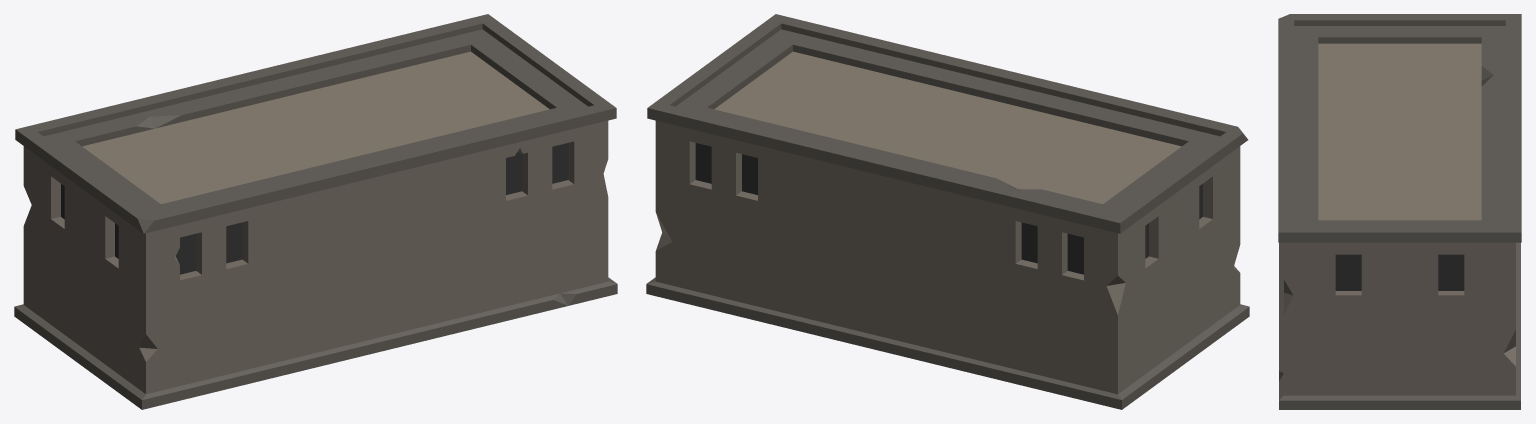
The model's file is SM_Bld_Fort_Room_03.fbx.
The picture shows the model from 3 angles, left to right: view 1: azimuth 30°, elevation 25°; view 2: azimuth 150°, elevation 25°; view 3: azimuth 270°, elevation 25°; orthographic projection. The views are drawn at different scales.
Visible parts, largest first — view 1: SM_Bld_Fort_Room_03; view 2: SM_Bld_Fort_Room_03; view 3: SM_Bld_Fort_Room_03.
Part boxes in pixels (<box>): SM_Bld_Fort_Room_03: <box>14,14,617,409</box>; SM_Bld_Fort_Room_03: <box>646,14,1249,409</box>; SM_Bld_Fort_Room_03: <box>1278,14,1521,409</box>.
Size of the model in its own units: 17.64 by 6.61 by 8.25.
